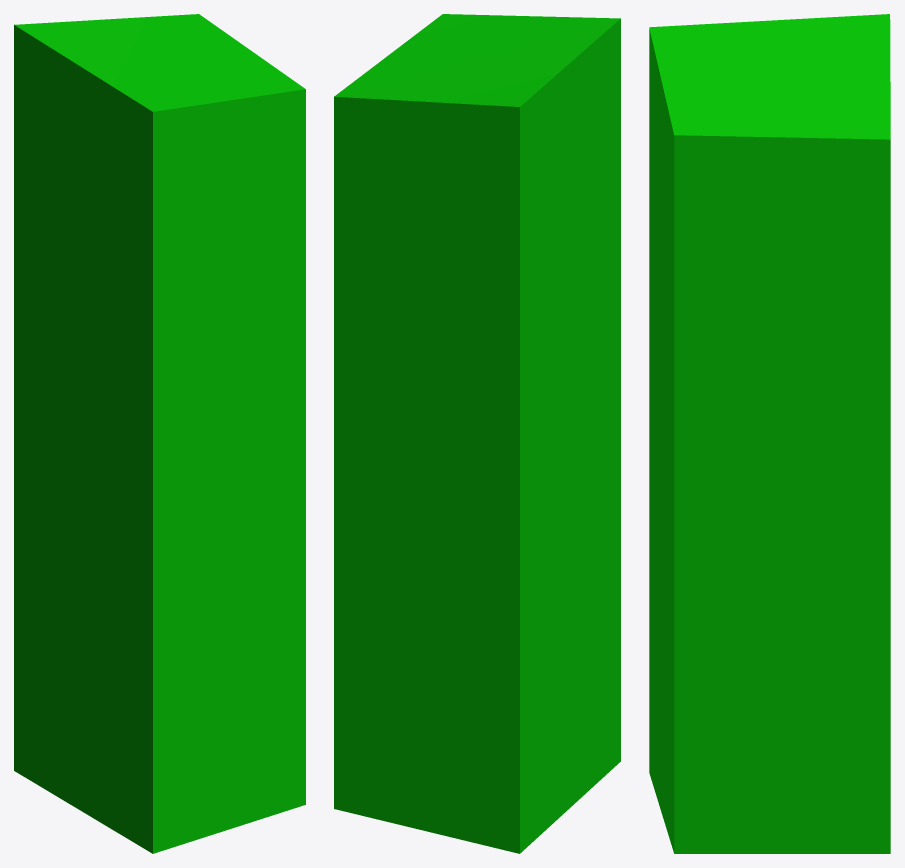
Rendered from M8_DragonTooth_Block.glb.
3 renders of one model, left to right at view 1: azimuth 30°, elevation 25°; view 2: azimuth 150°, elevation 25°; view 3: azimuth 270°, elevation 25°, orthographic.
Visible parts, largest first — view 1: M8_DRAGONTOOTH_BLOCK; view 2: M8_DRAGONTOOTH_BLOCK; view 3: M8_DRAGONTOOTH_BLOCK.
Boxes of the visible parts, box(x1,y1,x2,y2) form: M8_DRAGONTOOTH_BLOCK: box(14, 14, 305, 853); M8_DRAGONTOOTH_BLOCK: box(334, 14, 620, 853); M8_DRAGONTOOTH_BLOCK: box(649, 14, 890, 853).
Bounding box in the file's own units: 0.644 × 2.48 × 0.724.
